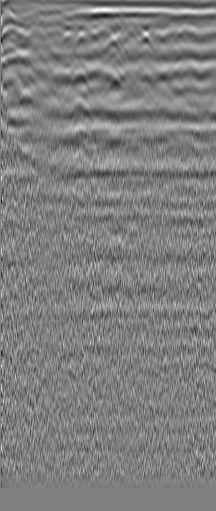오수: (26, 23, 46, 43)
우수: (176, 25, 196, 45)
